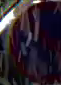No Stopping: (6, 1, 60, 84)
